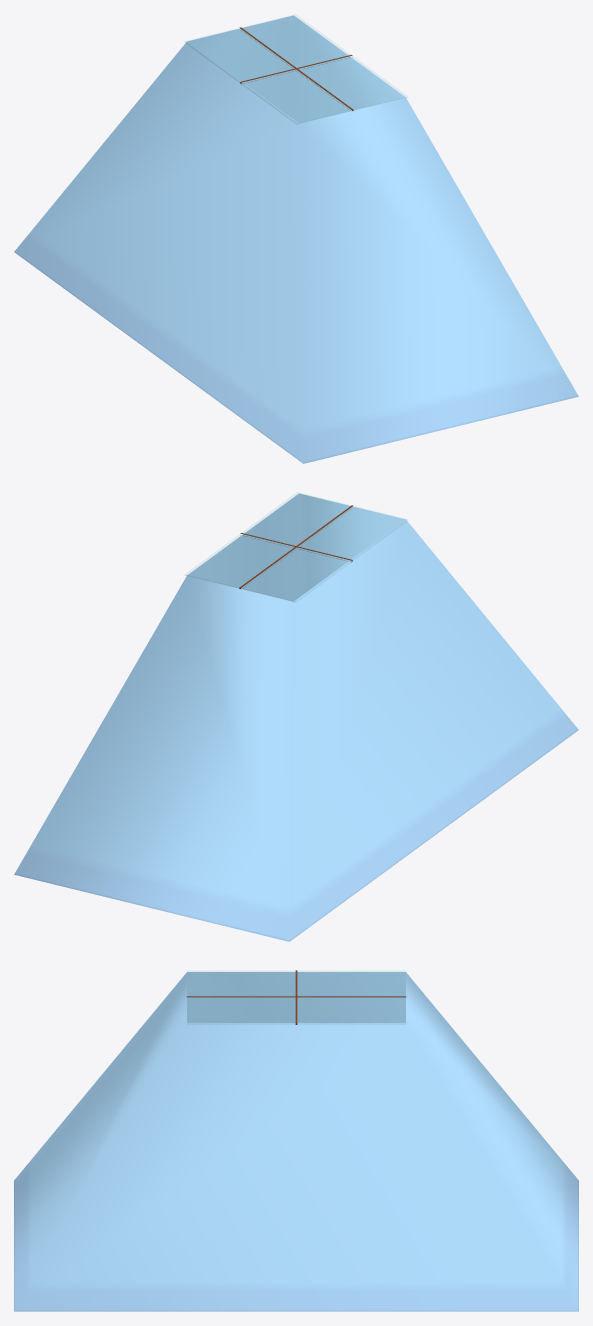
File: window.gltf
The picture shows the model from 3 angles, top to bottom: view 1: azimuth 30°, elevation 25°; view 2: azimuth 150°, elevation 25°; view 3: azimuth 270°, elevation 25°; orthographic projection. The views are drawn at different scales.
Parts seen in each view (by area): view 1: CSGCylinder3D2, Window3; view 2: CSGCylinder3D2, Window3; view 3: CSGCylinder3D2, Window3.
Boxes of the visible parts, x1,y1,x2,y2 form: CSGCylinder3D2: (14, 15, 578, 463); Window3: (185, 14, 407, 124); CSGCylinder3D2: (14, 493, 578, 941); Window3: (185, 492, 407, 602); CSGCylinder3D2: (14, 972, 578, 1311); Window3: (186, 970, 406, 1024).
Size of what is drawn, in the model's own units: 9.9 by 8.78 by 18.02.
Materials: 4 (3 with a texture image).
